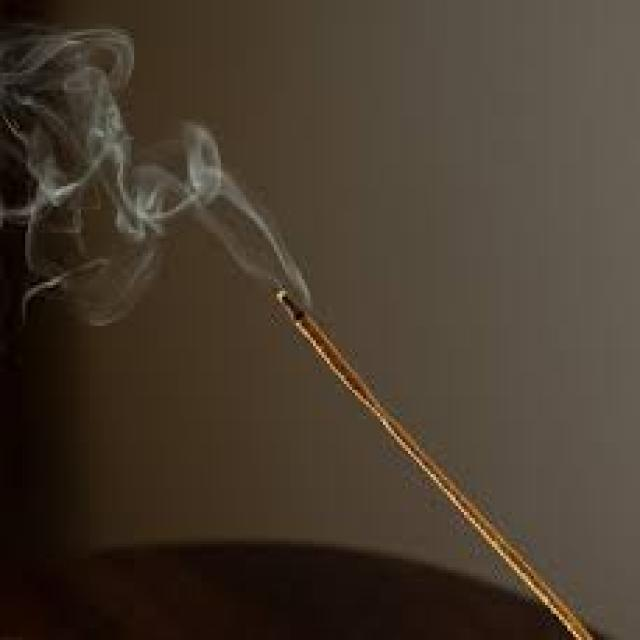Agarbatti: (267, 276, 601, 640)
